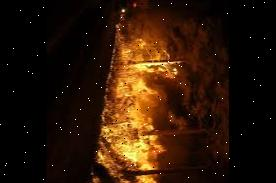fire: (84, 24, 178, 183)
